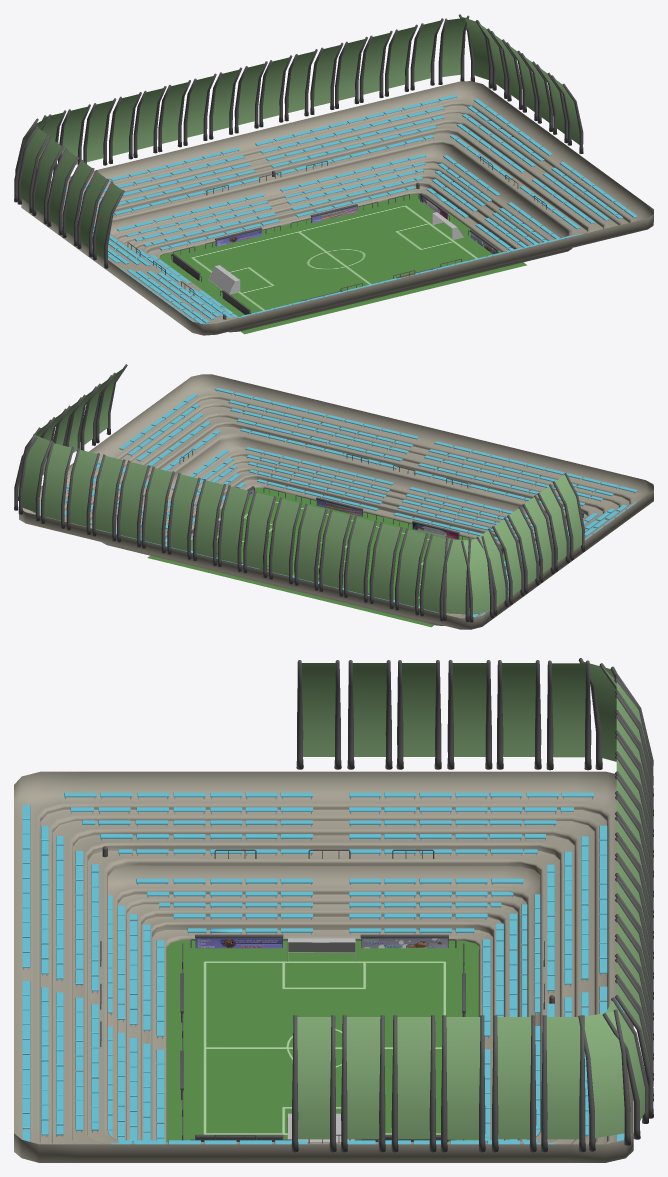
Rendered from Stadium Level Model - Entirety.fbx.
3 renders of one model, top to bottom at view 1: azimuth 30°, elevation 25°; view 2: azimuth 150°, elevation 25°; view 3: azimuth 270°, elevation 25°, orthographic. The views are drawn at different scales.
Parts seen in each view (by area): view 1: Stadium_Top_Rounded, Pitch_Ground, Stadium_Bottom_Rounded, Roof_Arch.016, Roof_Arch.009, Roof_Arch.010, Roof_Arch.004, Roof_Arch.007, Roof_Arch.015, Roof_Arch.012, Roof_Arch.013, Roof_Arch.014 (+22 smaller); view 2: Stadium_Top_Rounded, Stadium_Bottom_Rounded, Pitch_Ground, Roof_Arch.013, Roof_Arch.015, Roof_Arch.003, Roof_Arch.011, Roof_Arch.006, Roof_Arch.002, Roof_Arch.004, Roof_Arch.012, Roof_Arch.008 (+22 smaller); view 3: Stadium_Top_Rounded, Pitch_Ground, Stadium_Bottom_Rounded, Roof_Arch.025, Roof_Arch.024, Roof_Arch.023, Roof_Arch.022, Roof_Arch.026, Roof_Arch.017, Roof_Arch.018, Roof_Arch.019, Roof_Arch.030 (+25 smaller).
Part boxes in pixels (x1,y1,x2,y2): Stadium_Top_Rounded: [21, 81, 653, 335]; Pitch_Ground: [160, 194, 526, 334]; Stadium_Bottom_Rounded: [110, 144, 572, 332]; Roof_Arch.016: [438, 15, 469, 84]; Roof_Arch.009: [359, 30, 392, 102]; Roof_Arch.010: [410, 18, 443, 90]; Roof_Arch.004: [183, 73, 216, 145]; Roof_Arch.007: [133, 86, 166, 157]; Roof_Arch.015: [234, 61, 267, 133]; Roof_Arch.012: [284, 49, 317, 121]; Roof_Arch.013: [310, 42, 343, 114]; Roof_Arch.014: [259, 55, 292, 127]; Stadium_Top_Rounded: [19, 374, 653, 629]; Stadium_Bottom_Rounded: [101, 438, 567, 625]; Pitch_Ground: [147, 487, 504, 627]; Roof_Arch.013: [141, 466, 174, 553]; Roof_Arch.015: [217, 485, 250, 571]; Roof_Arch.003: [369, 522, 402, 608]; Roof_Arch.011: [66, 448, 99, 534]; Roof_Arch.006: [294, 504, 327, 590]; Roof_Arch.002: [343, 515, 376, 602]; Roof_Arch.004: [268, 497, 302, 584]; Roof_Arch.012: [167, 473, 200, 559]; Roof_Arch.008: [116, 460, 150, 547]; Stadium_Top_Rounded: [14, 771, 633, 1162]; Pitch_Ground: [166, 940, 479, 1141]; Stadium_Bottom_Rounded: [108, 865, 540, 1141]; Roof_Arch.025: [340, 1015, 385, 1152]; Roof_Arch.024: [440, 1015, 485, 1152]; Roof_Arch.023: [391, 1015, 436, 1152]; Roof_Arch.022: [491, 1015, 536, 1152]; Roof_Arch.026: [291, 1015, 336, 1152]; Roof_Arch.017: [540, 1015, 585, 1152]; Roof_Arch.018: [578, 1009, 630, 1151]; Roof_Arch.019: [546, 660, 591, 770]; Roof_Arch.030: [396, 660, 441, 769].
Bounding box in the file's own units: 115245 × 29931 × 80827.
